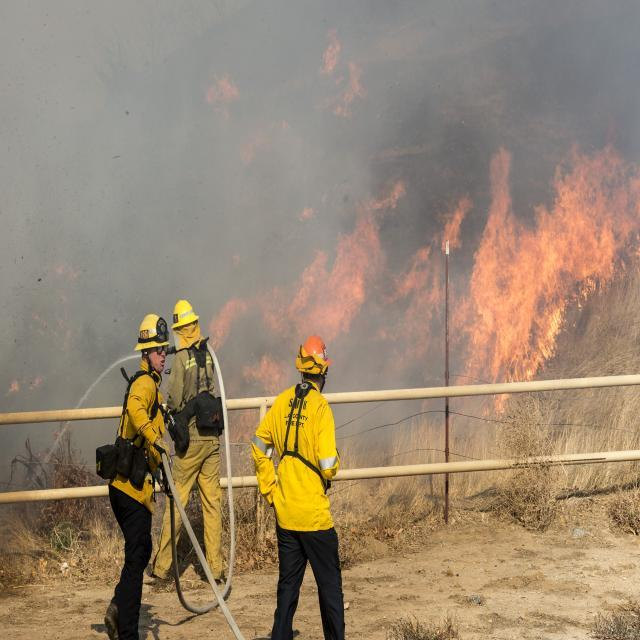Fire: (438, 136, 640, 416), (263, 175, 403, 348), (205, 294, 242, 364), (334, 64, 371, 128), (200, 68, 244, 112), (318, 23, 345, 88), (246, 365, 292, 399)
